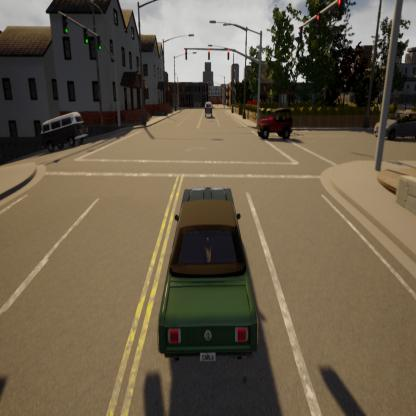Cars: (142, 177, 270, 371), (36, 109, 89, 154), (251, 104, 297, 144), (372, 104, 416, 143), (203, 100, 214, 120)
